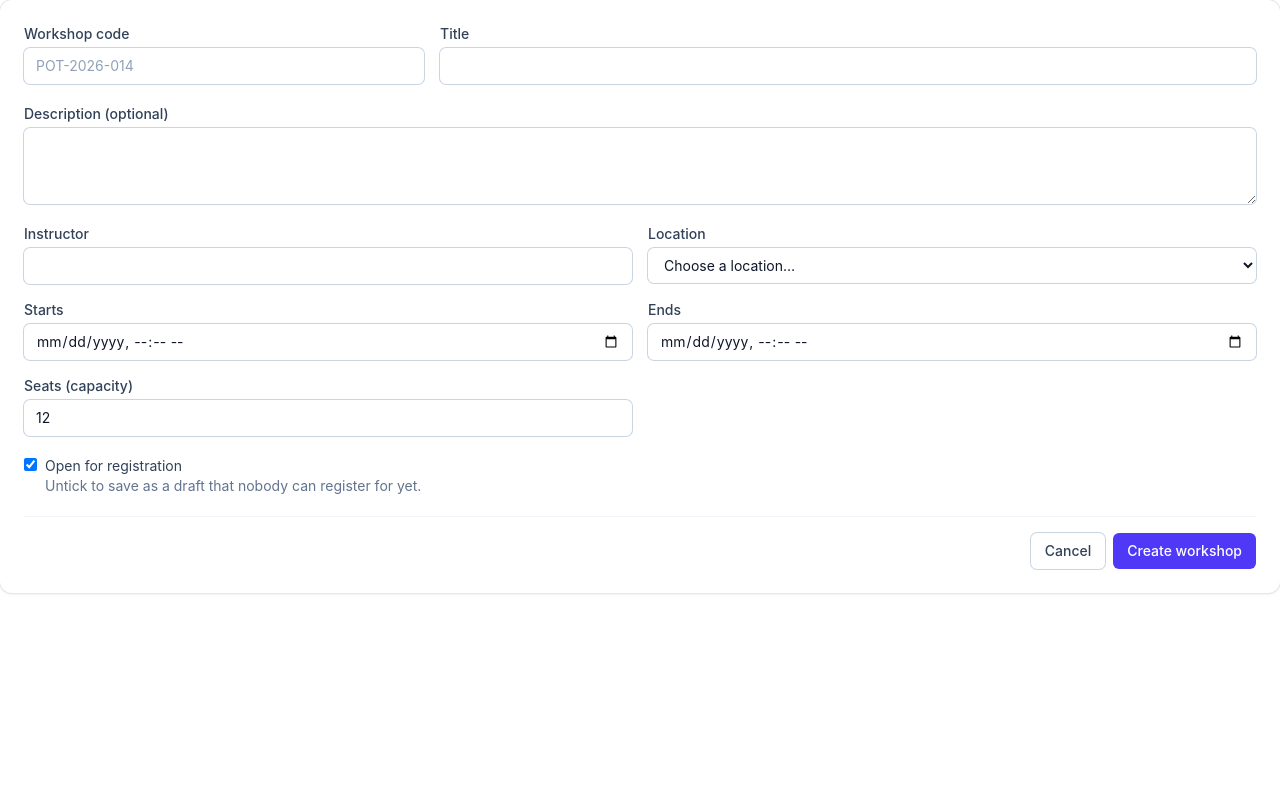
Test: WorkshopForm › shows plain-language errors and does not submit an empty form
What coordinates should you click on to do the following:
click the button "Create workshop"
I would click on:
 (1185, 551)
Its box is [1113,533,1256,569].
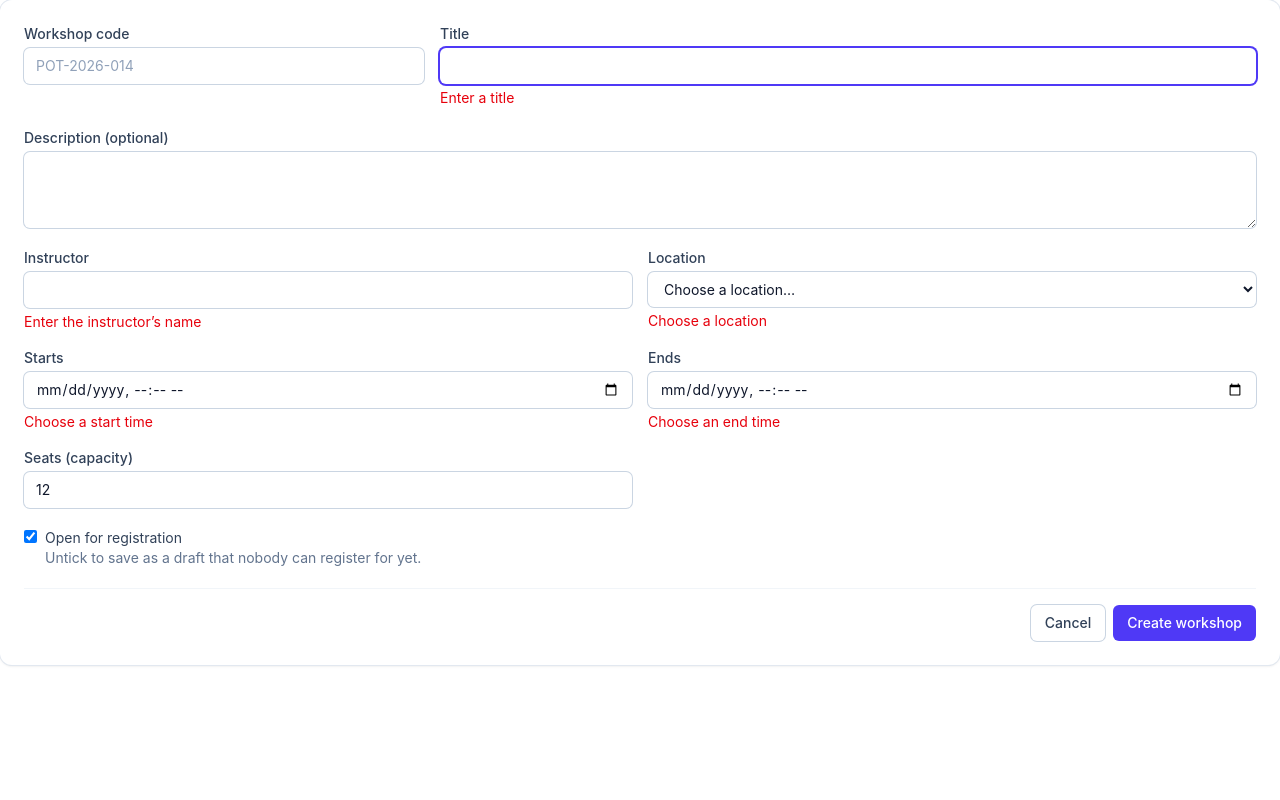
Result: the text "Enter a title" is shown at [440,89,514,106]
Result: the text "Choose a location" is shown at [648,312,767,329]
Result: the text "Choose a start time" is shown at [24,413,153,430]
